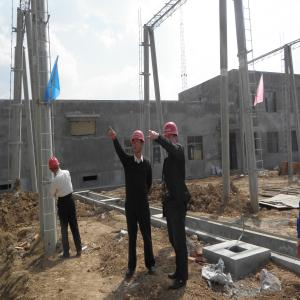red: (164, 123, 180, 148), (131, 130, 146, 155), (49, 157, 61, 175)
